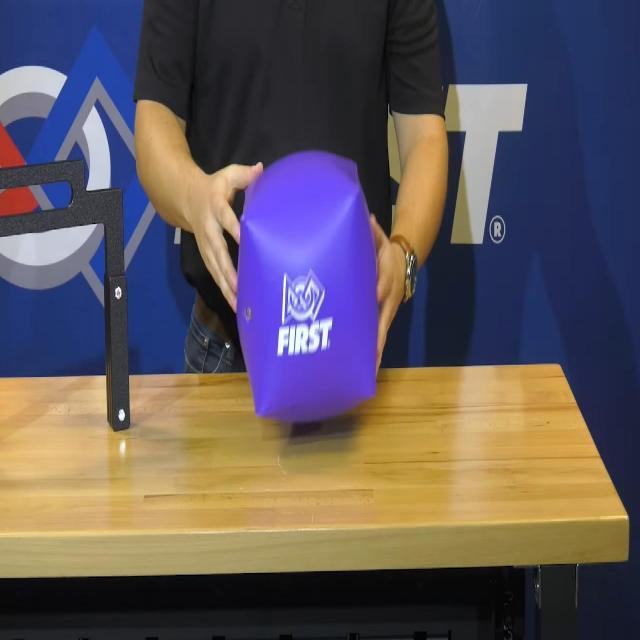frc_cube: (236, 151, 380, 422)
